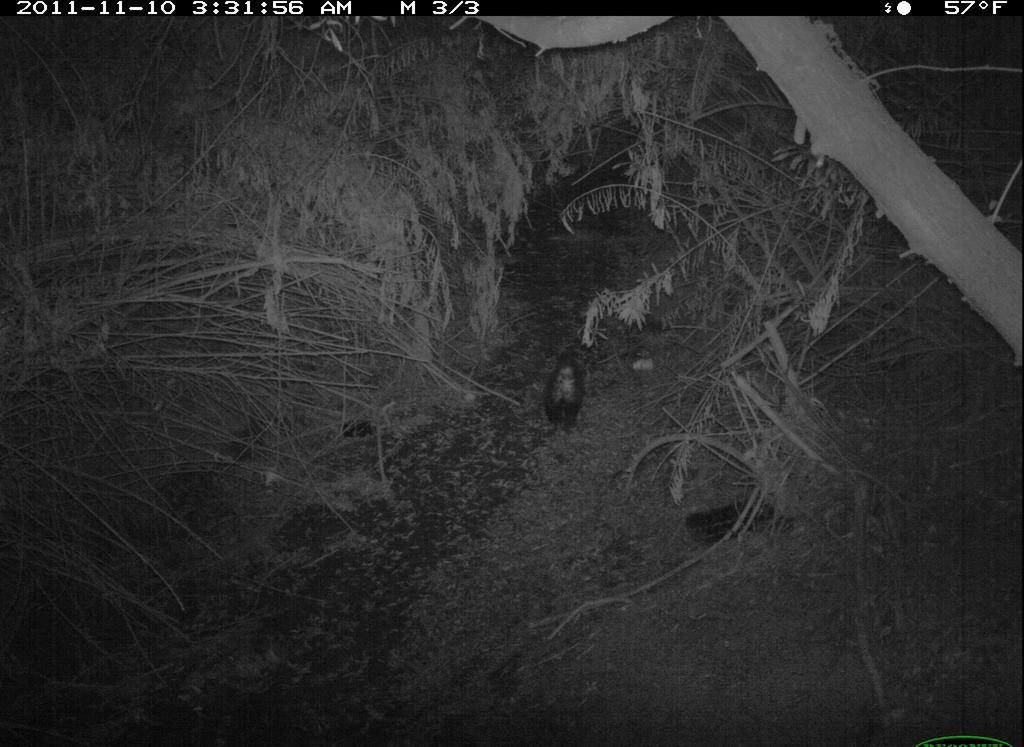skunk: (534, 332, 603, 443)
